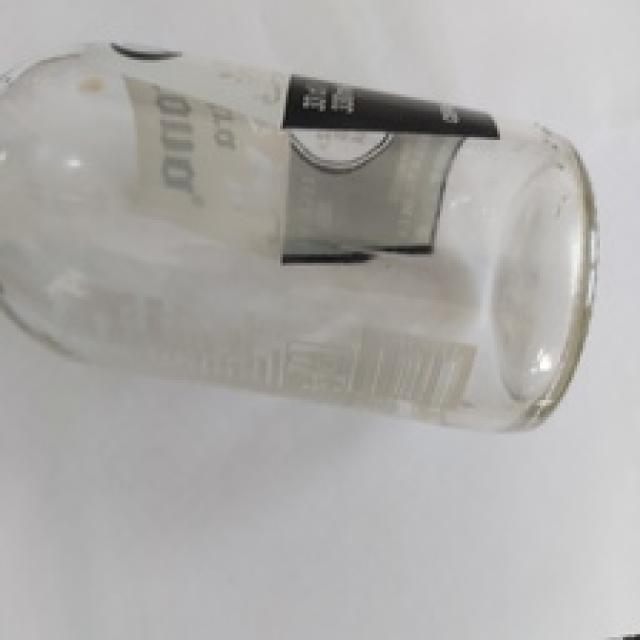Glass: (0, 44, 596, 432)
